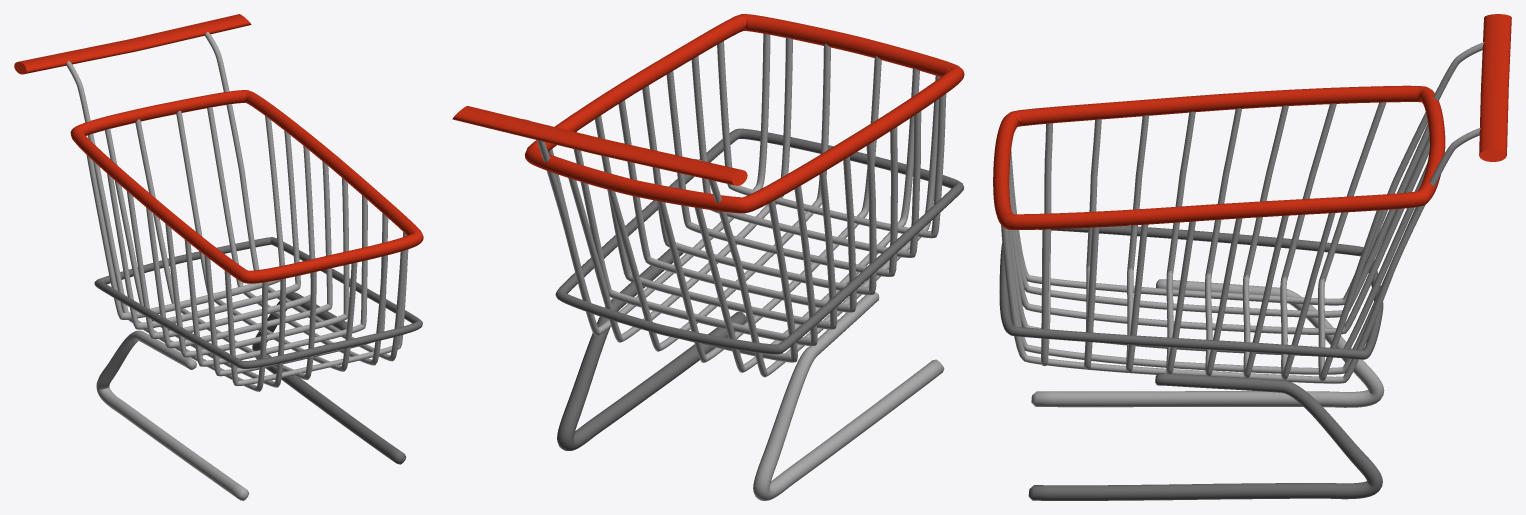
The model's file is Shopping kart.glb.
The picture shows the model from 3 angles, left to right: view 1: azimuth 30°, elevation 25°; view 2: azimuth 150°, elevation 25°; view 3: azimuth 270°, elevation 25°; orthographic projection. The views are drawn at different scales.
Parts seen in each view (by area): view 1: Shopping Kart; view 2: Shopping Kart; view 3: Shopping Kart.
Boxes of the visible parts, x1,y1,x2,y2 form: Shopping Kart: (14,14,423,500); Shopping Kart: (452,14,964,500); Shopping Kart: (993,14,1511,500).
Bounding box in the file's own units: 0.7336 × 0.9464 × 1.19.
Materials: 1 (1 with a texture image).
